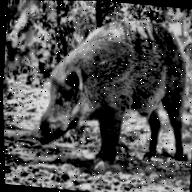boar: (31, 12, 192, 145)
